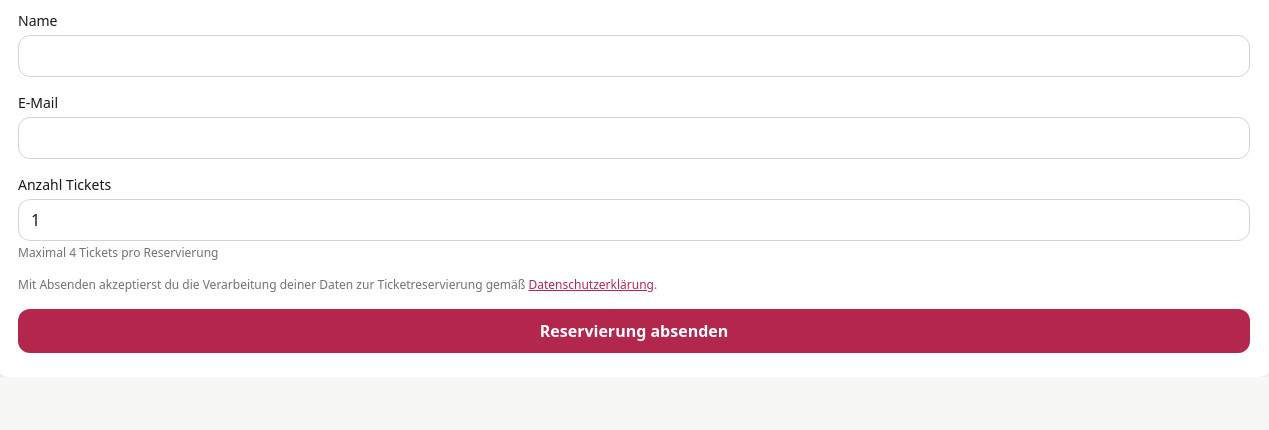
ReservationForm › error state › should show default error message when no error provided
Type "Max" into the field labelled "Name" at (634, 56), box top-left (18, 35), bottom-right (1250, 77)
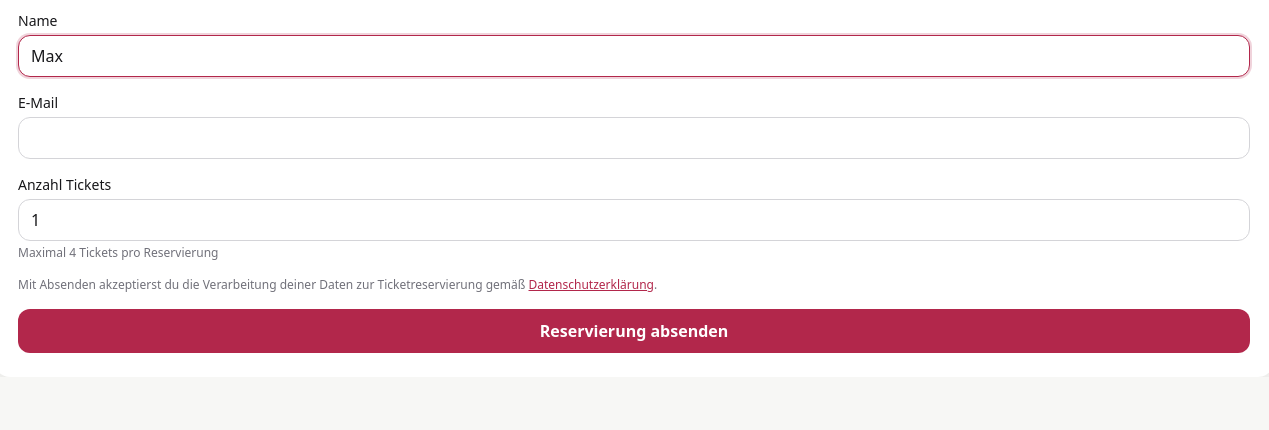
Type "max@example.com" into the field labelled "E-Mail" at (634, 138), box top-left (18, 117), bottom-right (1250, 159)
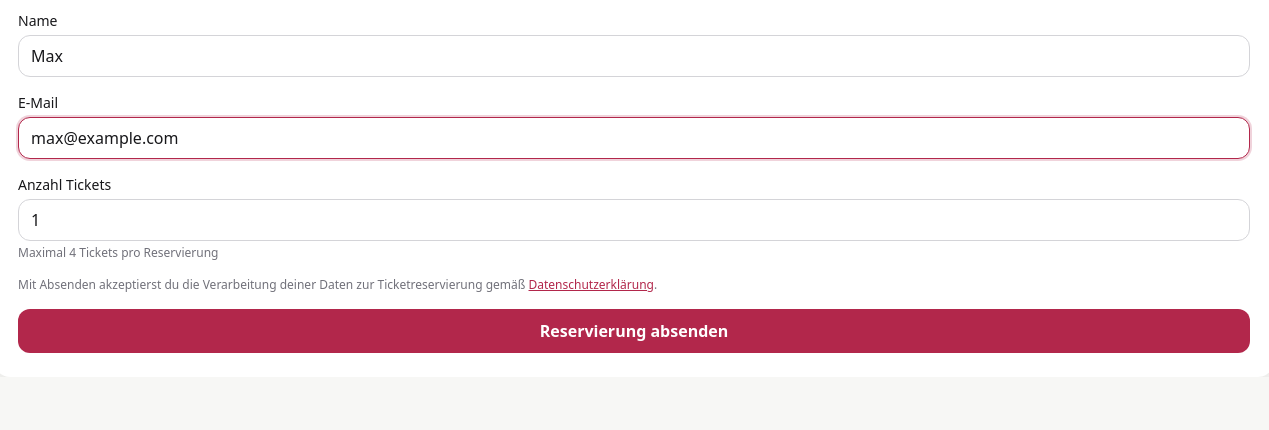
Click the button "Reservierung absenden" at (634, 331), box top-left (18, 309), bottom-right (1250, 353)
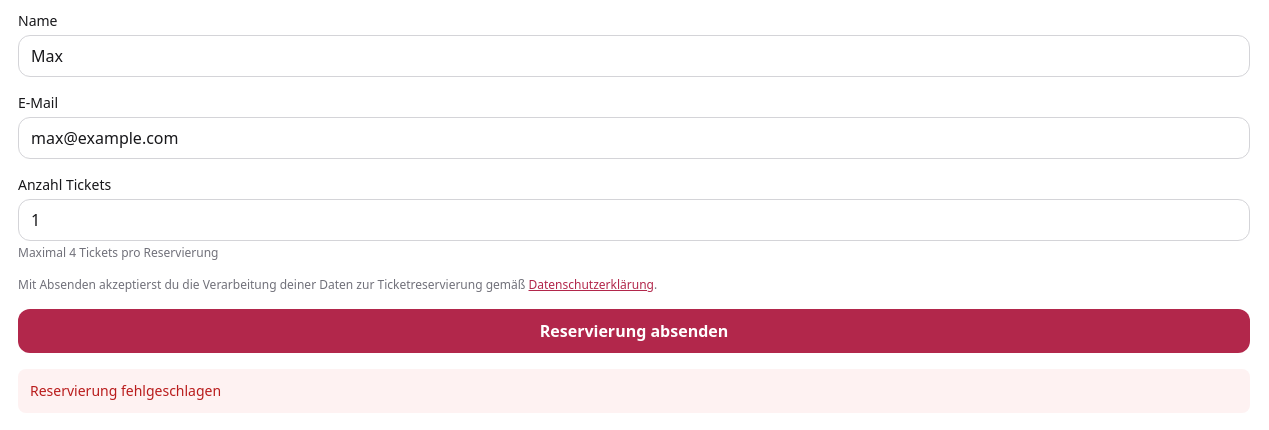
Expected: the text "Reservierung fehlgeschlagen" is shown, top-left (18, 369), bottom-right (1250, 413)
